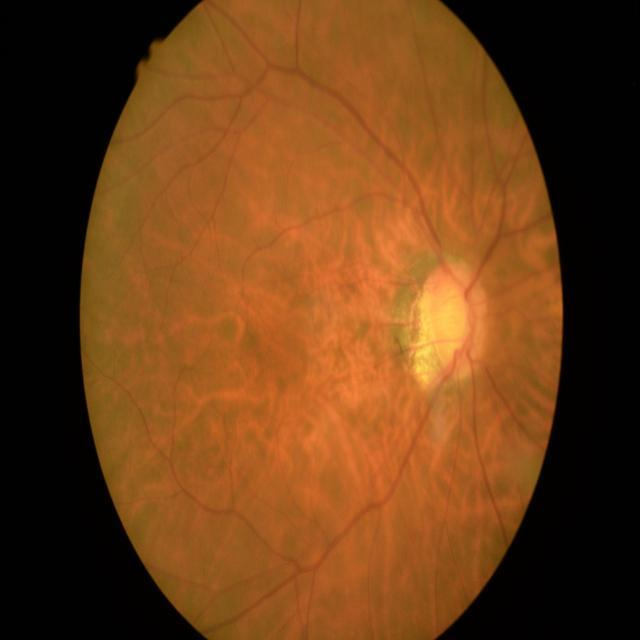cup: (434, 278, 474, 362)
disk: (422, 260, 488, 381)
